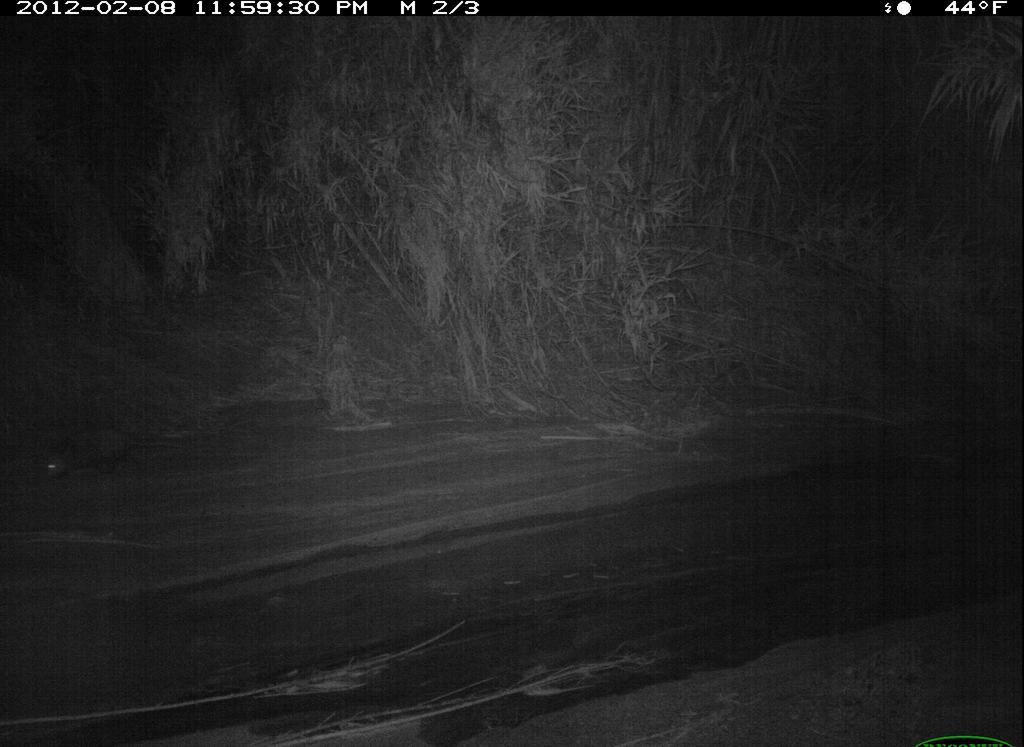opossum: (31, 418, 194, 488)
